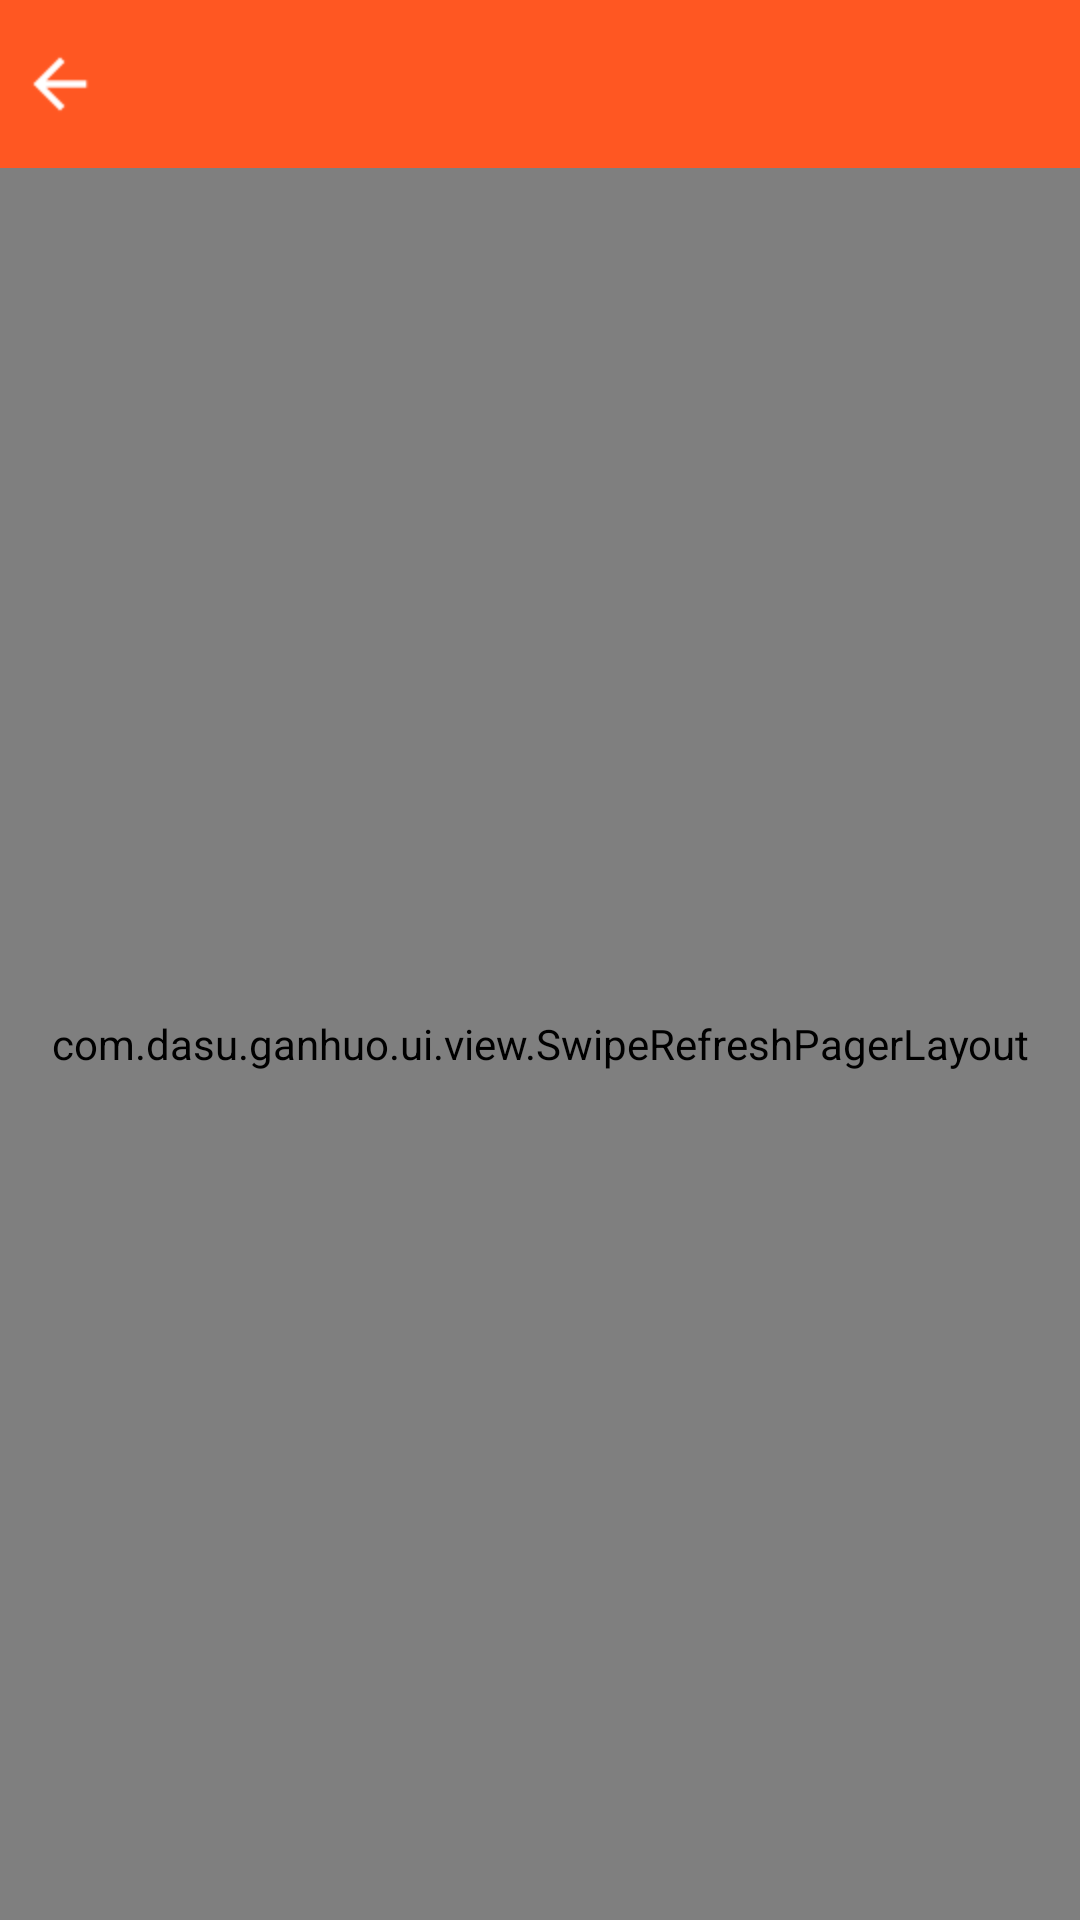

Icons on this 1080*1920 Android screen, each with its box as [left=x1, top=y1, right=x2, bottom=y2]:
arrow left: [left=33, top=57, right=88, bottom=111]
